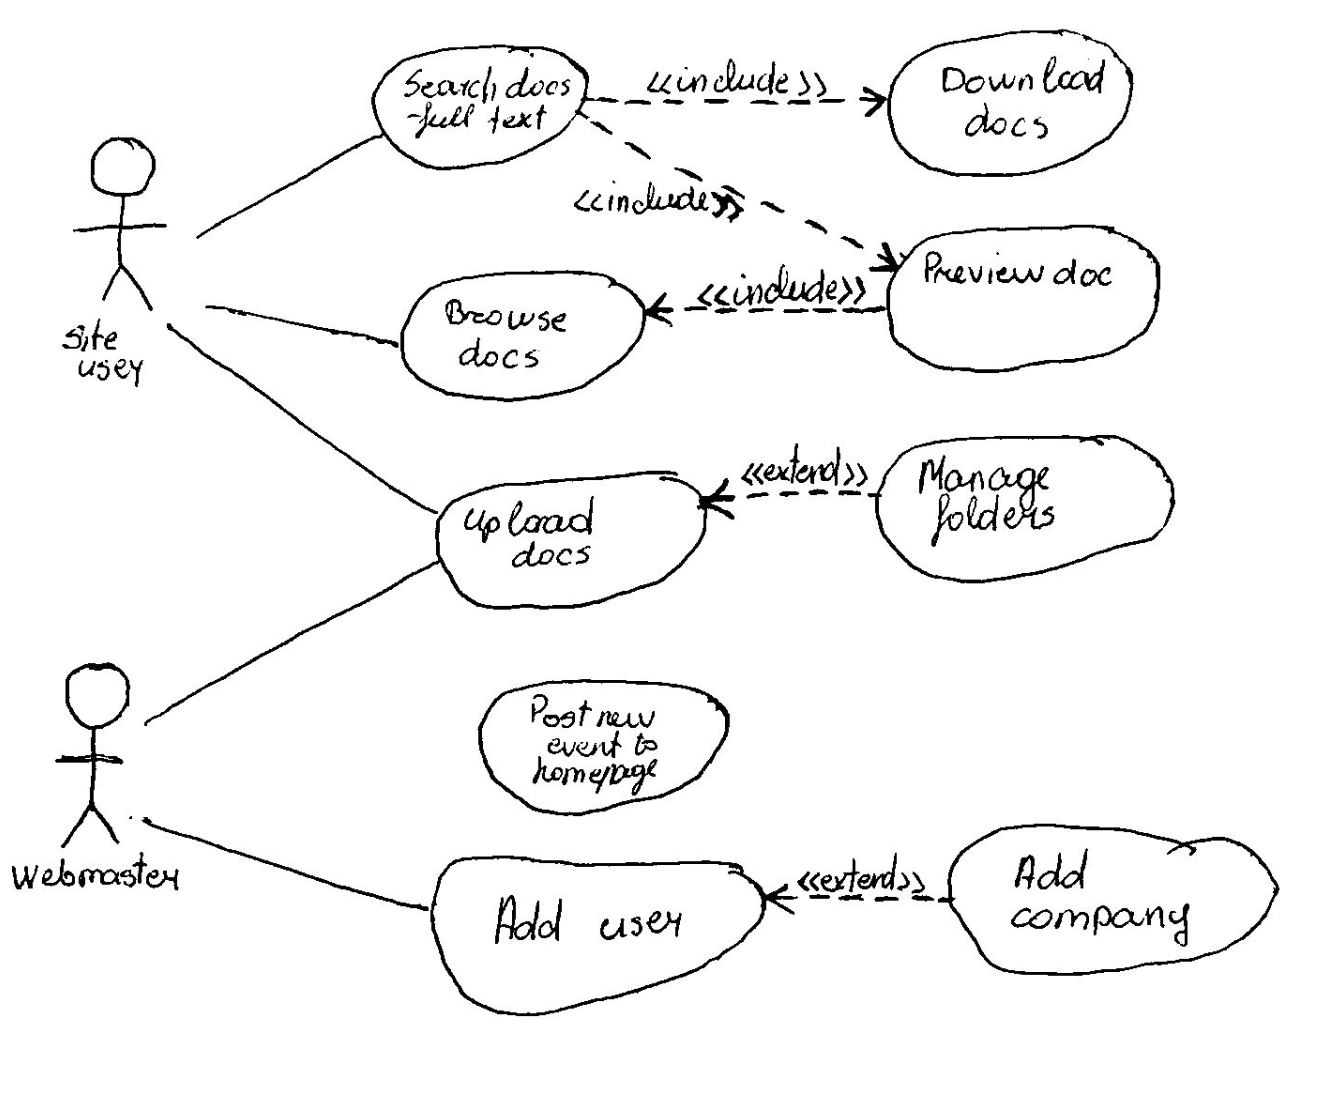actor: (30, 654, 137, 852), (68, 135, 162, 313)
association: (163, 321, 435, 515), (585, 113, 899, 275), (142, 561, 435, 732), (137, 812, 425, 914), (195, 131, 379, 237), (206, 299, 397, 358), (589, 86, 885, 120), (648, 289, 886, 330), (703, 474, 876, 520), (768, 882, 950, 917)
text: (1003, 853, 1218, 956), (914, 454, 1082, 550), (933, 54, 1103, 146), (523, 691, 668, 796), (488, 883, 690, 954), (399, 66, 568, 138), (462, 499, 619, 573), (442, 299, 582, 378), (918, 248, 1121, 300), (639, 53, 832, 105), (3, 854, 192, 899), (705, 259, 867, 310), (567, 183, 751, 226), (50, 321, 150, 391), (740, 444, 873, 490), (792, 853, 932, 893)
use_case: (428, 851, 764, 1019), (945, 822, 1282, 975), (875, 433, 1174, 583), (889, 222, 1162, 374), (434, 466, 706, 611), (886, 29, 1131, 181), (478, 677, 731, 819), (400, 267, 648, 403), (366, 43, 588, 172)
